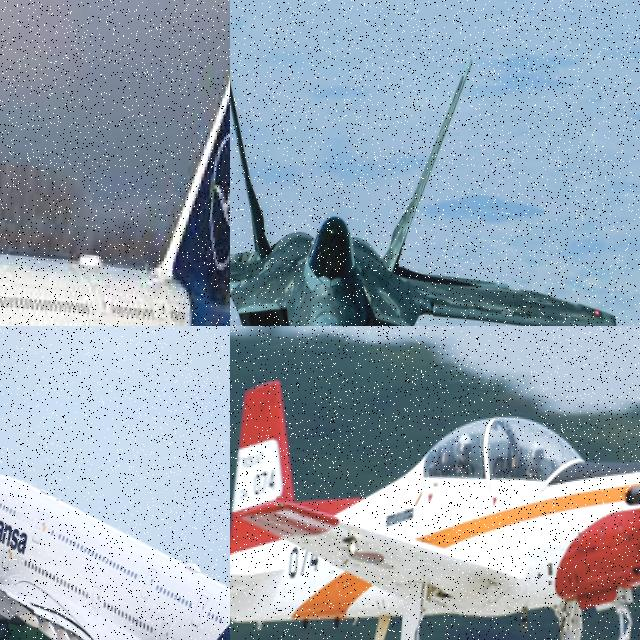A380: (0, 0, 230, 326), (0, 407, 230, 640)
F22: (230, 16, 638, 326)
KT-1: (230, 372, 640, 640)
